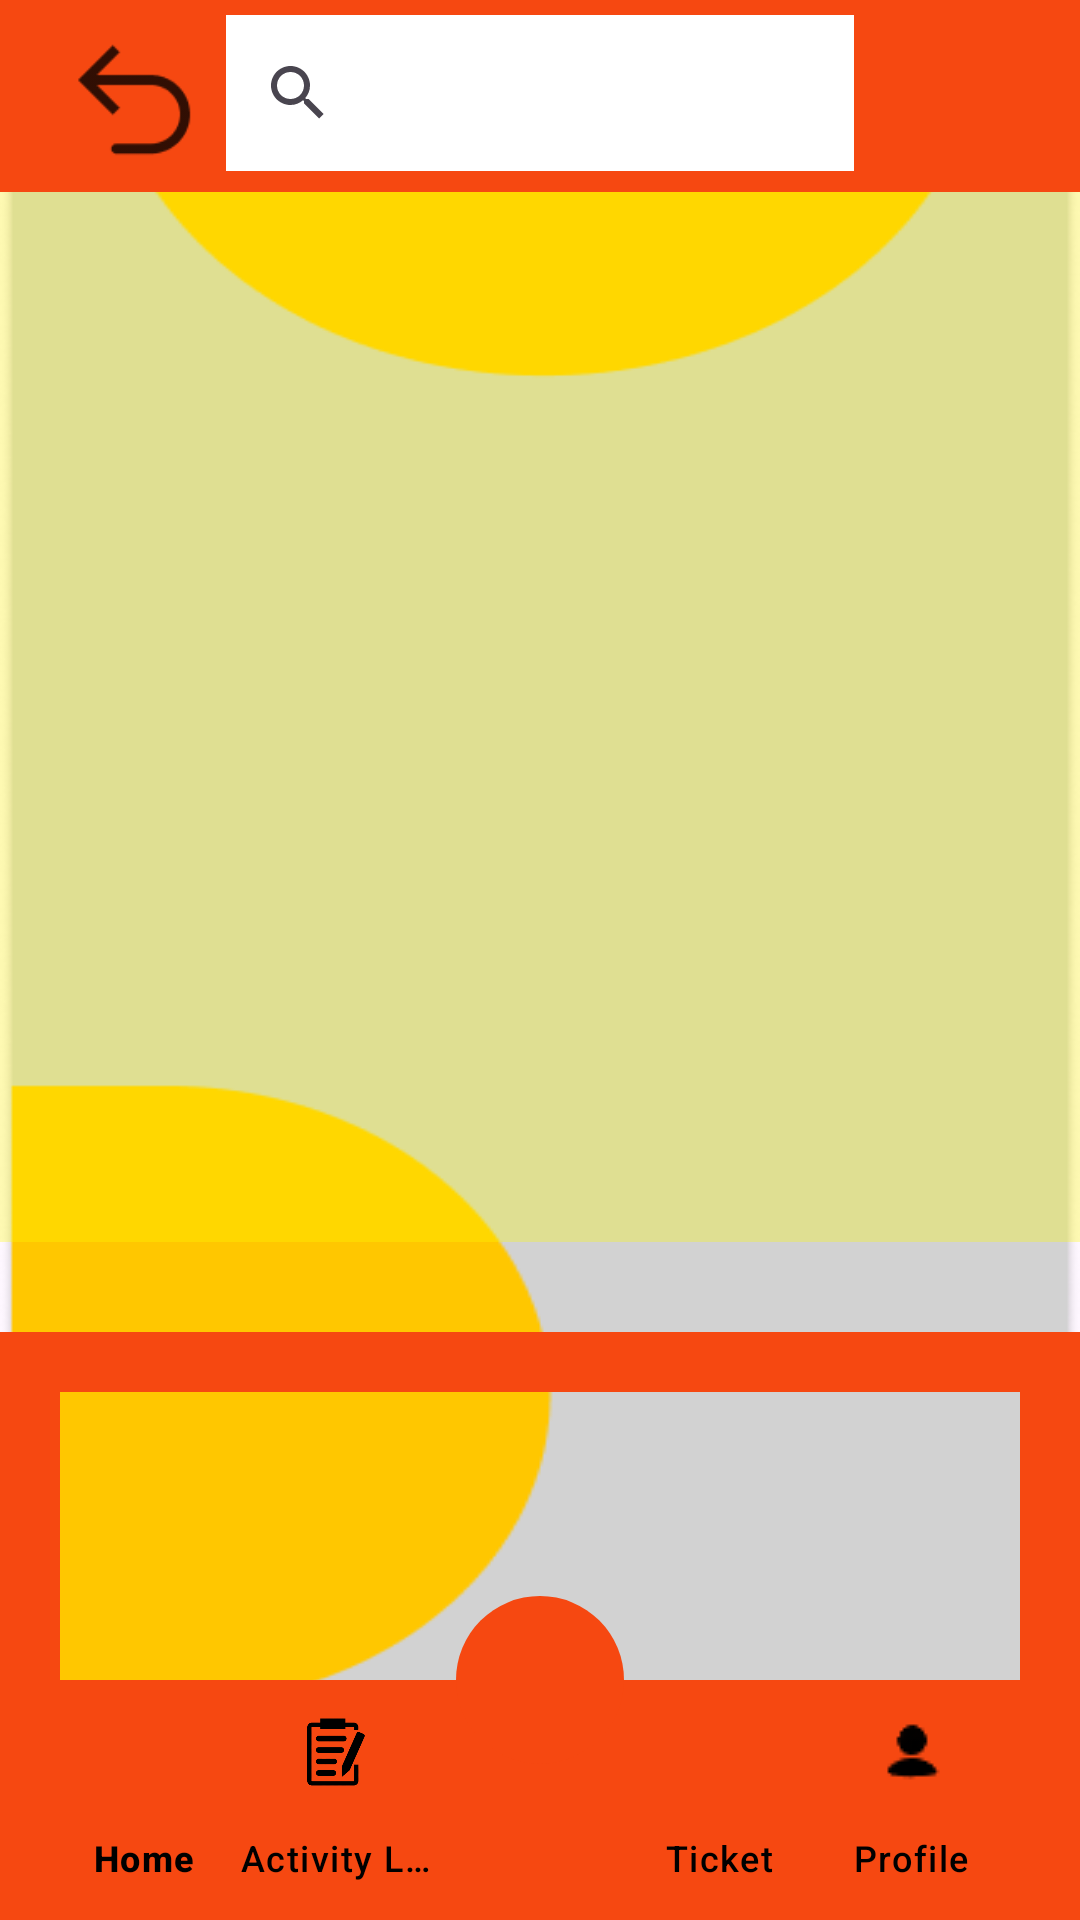

Screen size 1080 x 1920. Icon name, then its box in pixels as (x1, y1, x2, y2):
back: (78, 30, 270, 171)
